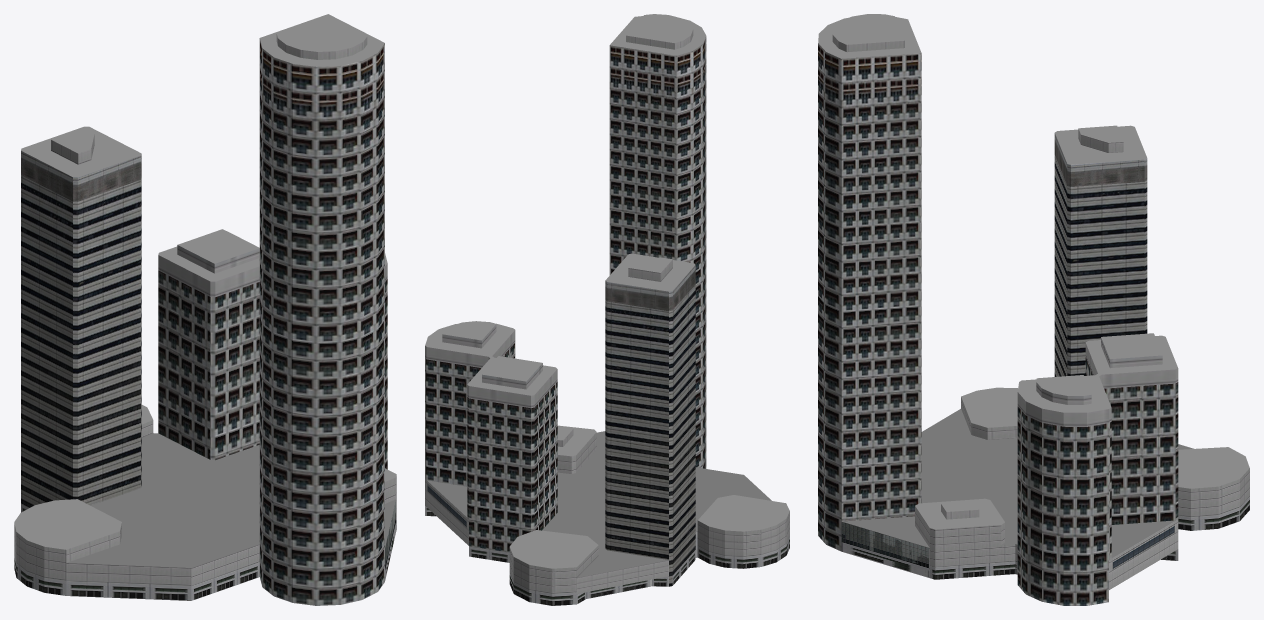
File: skyscraper.FBX
The picture shows the model from 3 angles, left to right: view 1: azimuth 30°, elevation 25°; view 2: azimuth 150°, elevation 25°; view 3: azimuth 270°, elevation 25°; orthographic projection. The views are drawn at different scales.
Visible parts, largest first — view 1: Group002; view 2: Group002; view 3: Group002.
Boxes of the visible parts, x1,y1,x2,y2 form: Group002: (14,14,396,605); Group002: (425,14,789,605); Group002: (818,14,1249,605).
Bounding box in the file's own units: 18134 × 24015 × 18785.
Materials: 1 (1 with a texture image).
